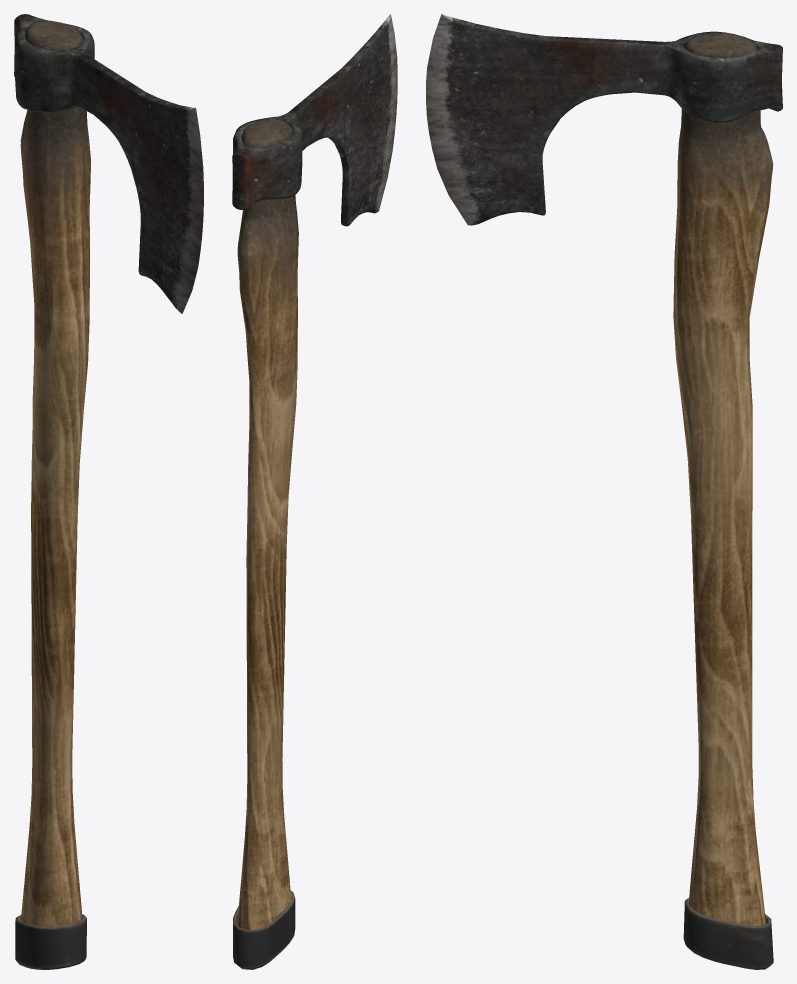
Rendered from wooden_axe.glb.
3 renders of one model, left to right at view 1: azimuth 30°, elevation 25°; view 2: azimuth 150°, elevation 25°; view 3: azimuth 270°, elevation 25°, orthographic. The views are drawn at different scales.
Parts seen in each view (by area): view 1: wooden_axe; view 2: wooden_axe; view 3: wooden_axe.
Boxes of the visible parts, bbox=[...] form: wooden_axe: bbox=[14, 14, 203, 969]; wooden_axe: bbox=[232, 14, 397, 969]; wooden_axe: bbox=[426, 14, 782, 969].
Bounding box in the file's own units: 0.0472 × 0.6303 × 0.2143.
1 material, 1 textured.
